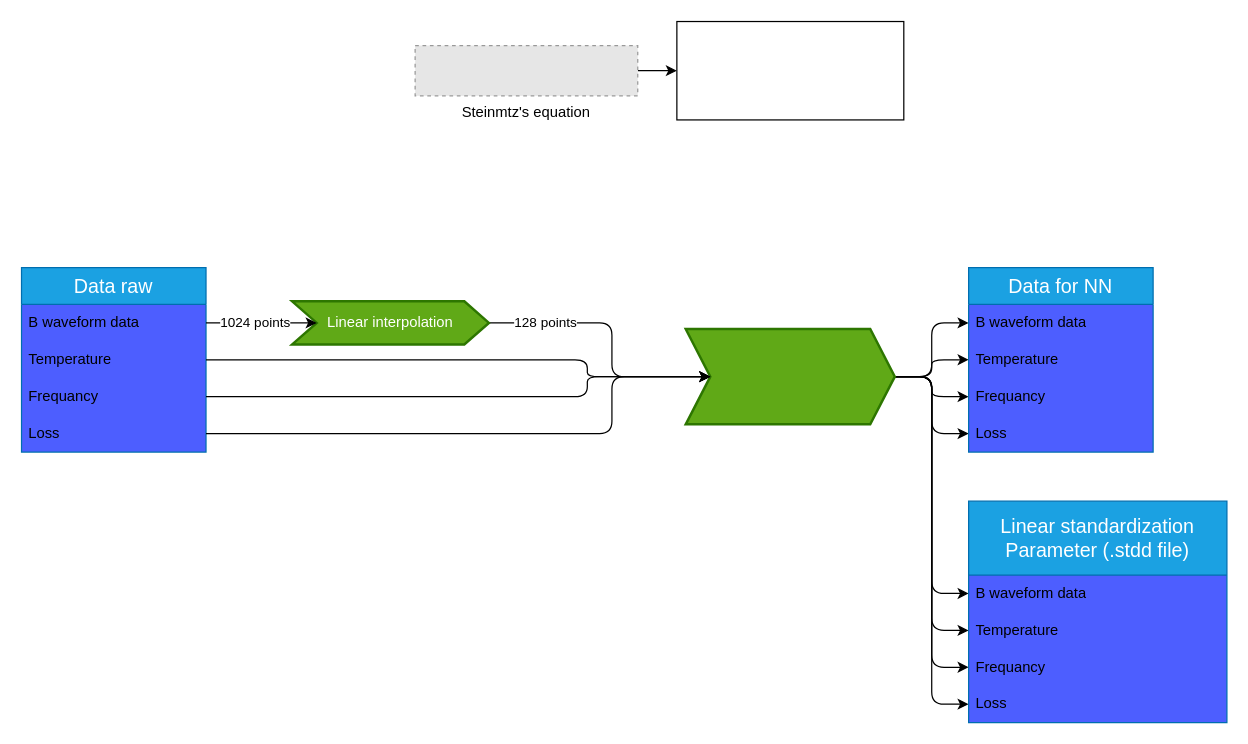
Image size: 1248x744. Some labels were removed from this diagram. Grey dashed boxes stand in for pictures. The centre of each missing label's shape, as x and y in pixels:
Linear standardization Range:(0-1): [789,376]
Range: a: 1-2 b: 2-3: [790,70]
